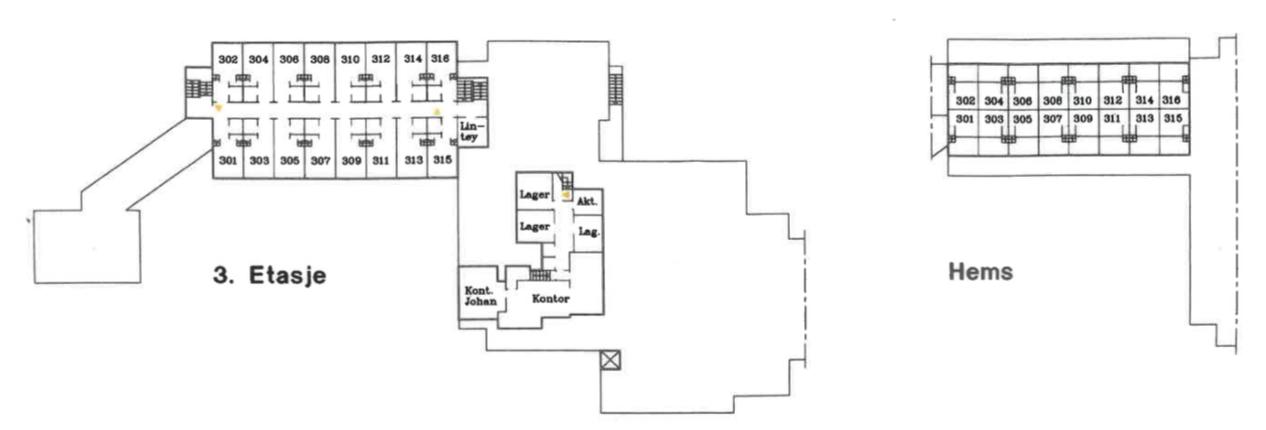room: (498, 251, 604, 329), (427, 116, 458, 178), (426, 41, 458, 101), (304, 117, 335, 178), (304, 42, 335, 103), (335, 42, 366, 103), (365, 41, 396, 102), (212, 118, 243, 178), (243, 118, 274, 178), (273, 118, 304, 178), (335, 118, 366, 178), (273, 42, 304, 102), (366, 117, 396, 178), (397, 117, 427, 178), (243, 42, 273, 103), (396, 41, 426, 102), (213, 42, 242, 103), (1067, 63, 1099, 109), (1128, 109, 1160, 155), (1129, 62, 1160, 109), (1159, 108, 1190, 155), (947, 63, 978, 109), (1008, 110, 1039, 156), (1068, 109, 1099, 155), (1099, 63, 1130, 109), (516, 171, 553, 209), (1099, 110, 1130, 155), (949, 109, 979, 155), (1039, 109, 1068, 156), (978, 64, 1008, 109), (1039, 64, 1069, 109), (1160, 63, 1190, 108), (979, 110, 1008, 156), (1009, 64, 1038, 109), (517, 209, 555, 243)
